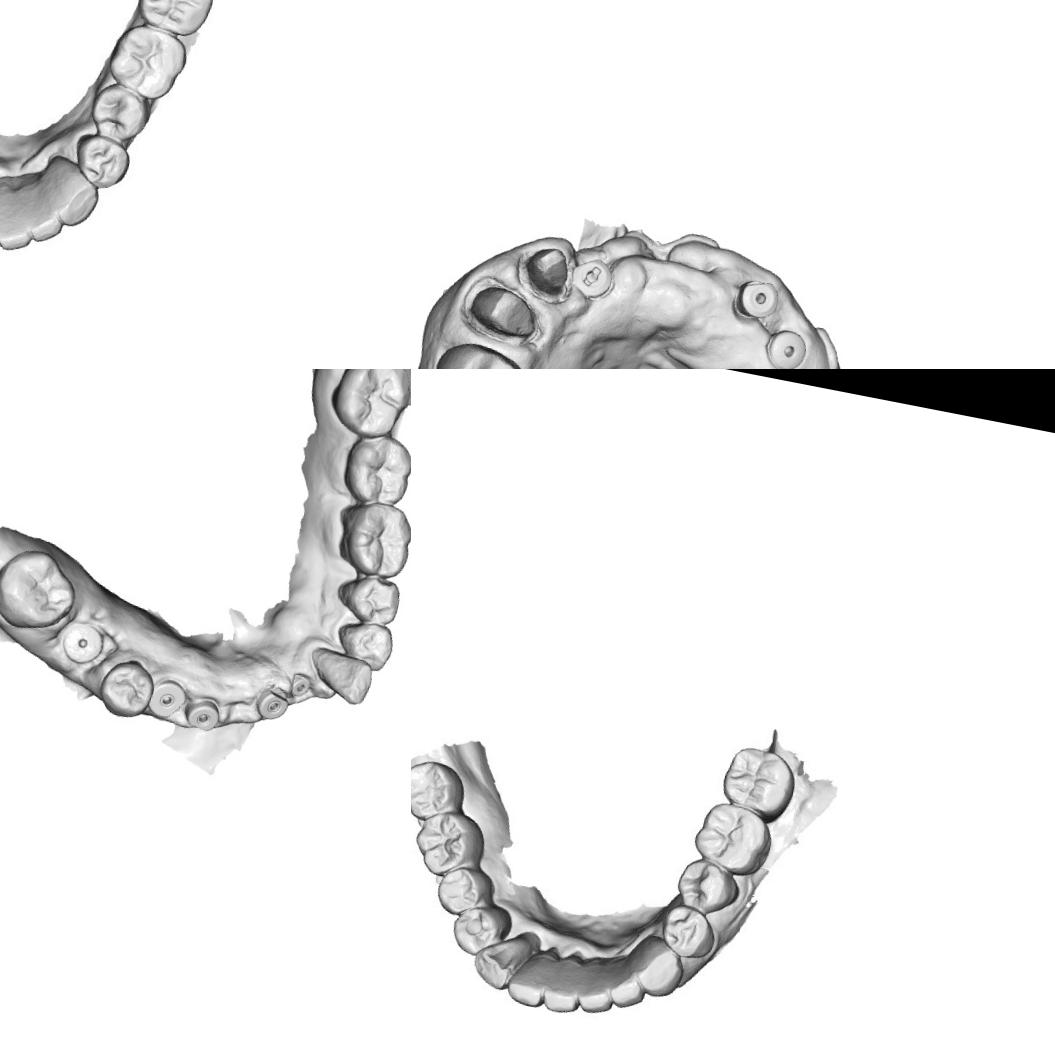canine: (38, 150, 106, 231), (303, 644, 376, 708), (468, 926, 531, 994), (624, 936, 687, 1000)
crown: (458, 276, 546, 349), (514, 238, 577, 303)
implant: (728, 271, 785, 326), (56, 618, 108, 670), (761, 323, 811, 369), (144, 674, 190, 722), (180, 692, 223, 734), (251, 682, 291, 723), (287, 671, 312, 699)
implant_minus: (568, 255, 618, 304)
incisor: (11, 174, 70, 244), (503, 944, 558, 1009), (542, 948, 594, 1014), (0, 178, 42, 250), (576, 955, 620, 1014), (608, 958, 642, 1008)
molar: (0, 539, 83, 637), (102, 19, 188, 102), (690, 799, 778, 880), (332, 495, 411, 581), (717, 741, 801, 820), (411, 805, 495, 882), (326, 369, 411, 444), (338, 426, 411, 509), (411, 751, 472, 826), (134, 0, 220, 36)
premolar: (670, 856, 746, 918), (93, 654, 159, 724), (446, 898, 514, 964), (331, 569, 404, 628), (423, 333, 535, 369), (434, 858, 499, 920), (74, 129, 137, 192), (656, 901, 722, 961), (331, 616, 397, 674), (88, 84, 150, 142)
